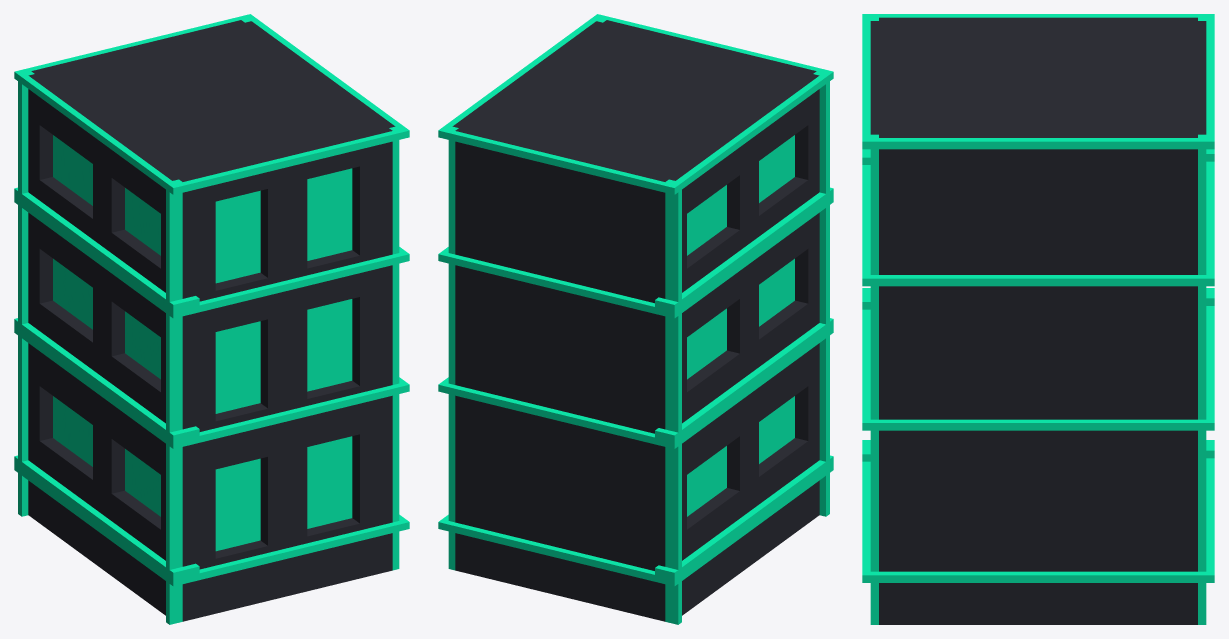
The model's file is building_001(1).obj.
3 renders of one model, left to right at view 1: azimuth 30°, elevation 25°; view 2: azimuth 150°, elevation 25°; view 3: azimuth 270°, elevation 25°, orthographic. The views are drawn at different scales.
Size of the model in its own units: 3.6 by 6.4 by 4.2.
Materials: 1 (1 with a texture image).
